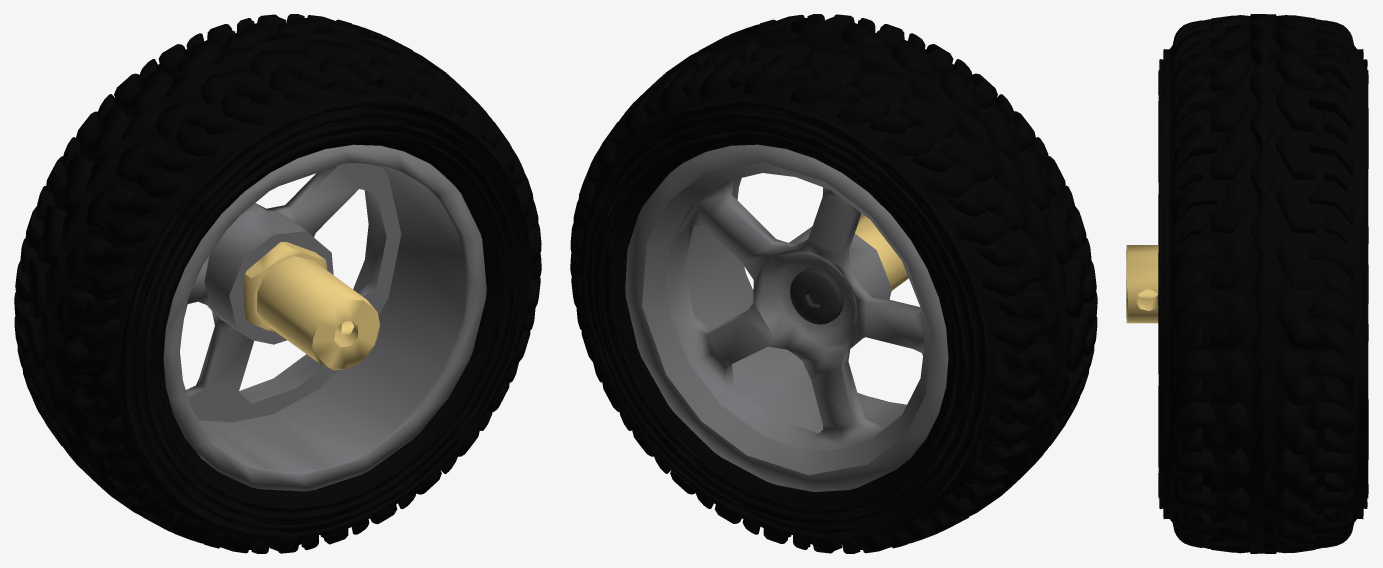
Rendered from wheel_asm_decimate_3.dae.
3 views of the same model, side by side, from view 1: azimuth 30°, elevation 25°; view 2: azimuth 150°, elevation 25°; view 3: azimuth 270°, elevation 25° (orthographic).
Visible parts, largest first — view 1: 0000056813_ASM; view 2: 0000056813_ASM, M4X6-ALLEN.001; view 3: 0000056813_ASM.
Boxes of the visible parts, <box> form: 0000056813_ASM: <box>14,14,541,553</box>; 0000056813_ASM: <box>570,14,1097,553</box>; M4X6-ALLEN.001: <box>790,268,843,324</box>; 0000056813_ASM: <box>1126,14,1368,553</box>.
Bounding box in the file's own units: 0.0748 × 0.0336 × 0.0748.
